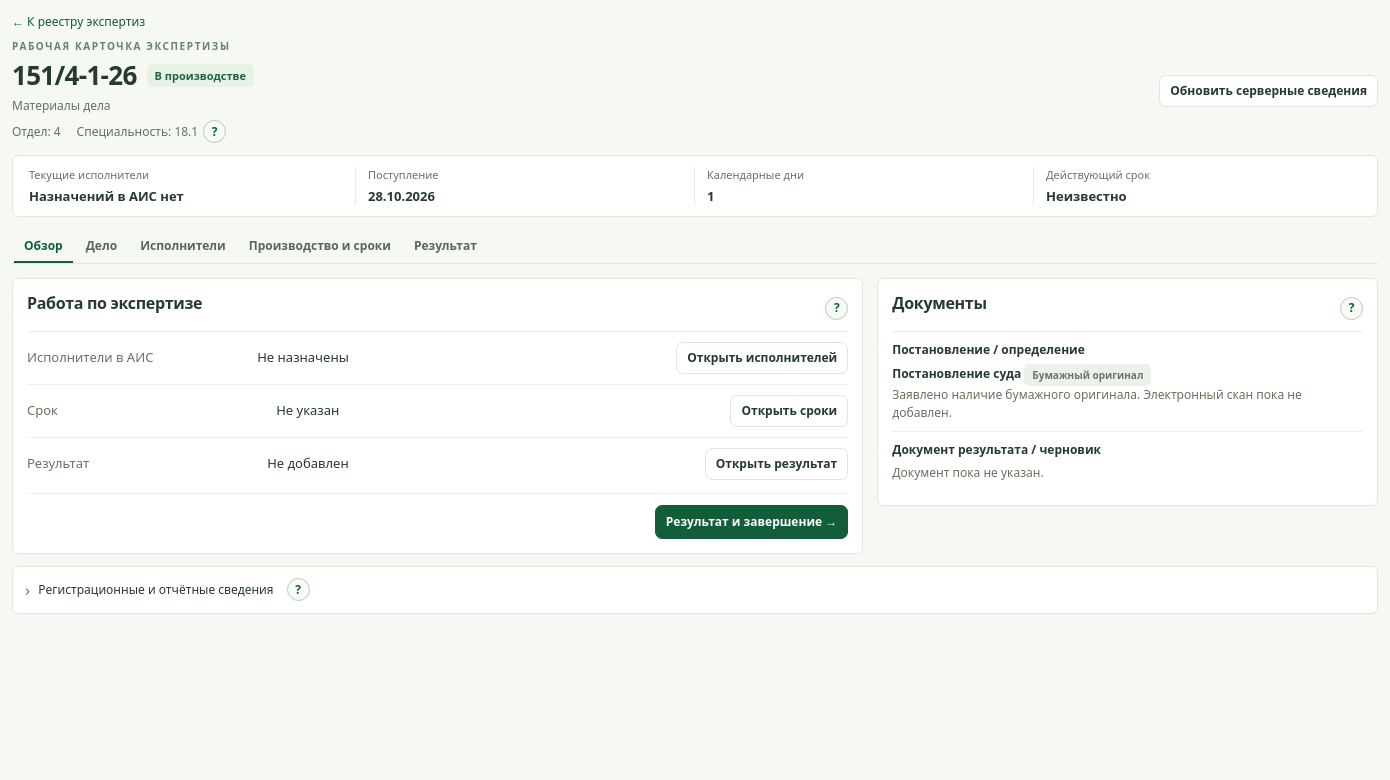
Test case: result and closure workflow › folds reporting details and histories while keeping completion blockers visible
The width and height of the screenshot is (1390, 780).
Click the tab "Результат". click: (445, 247)
box: [404,231,487,263]
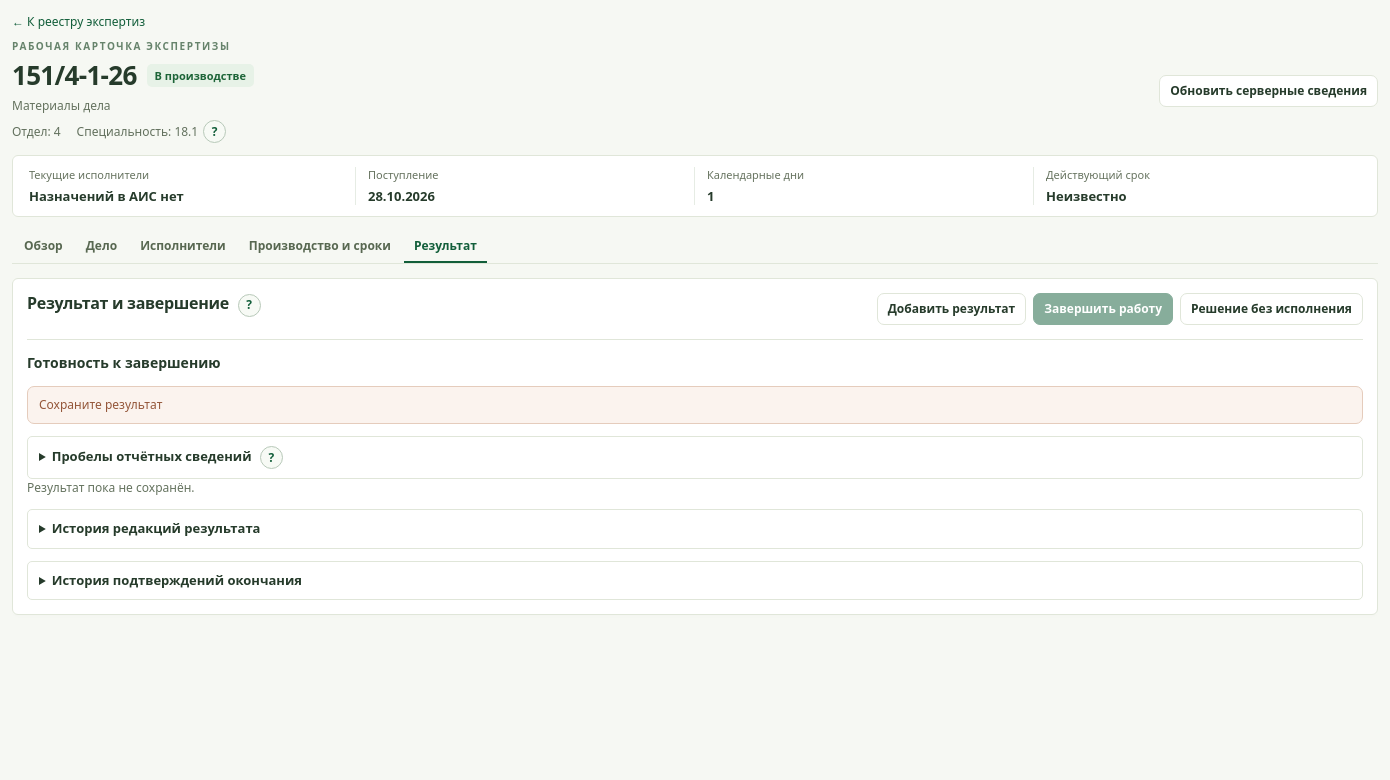
Result: the element showing "Готовность к завершению Сохраните результат" is shown at [27,339,1363,424]
